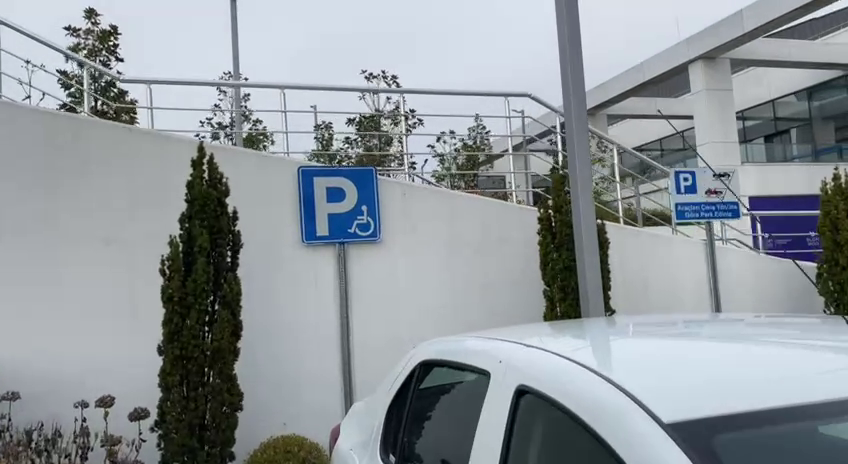parking: (296, 164, 382, 245), (673, 168, 700, 196)
